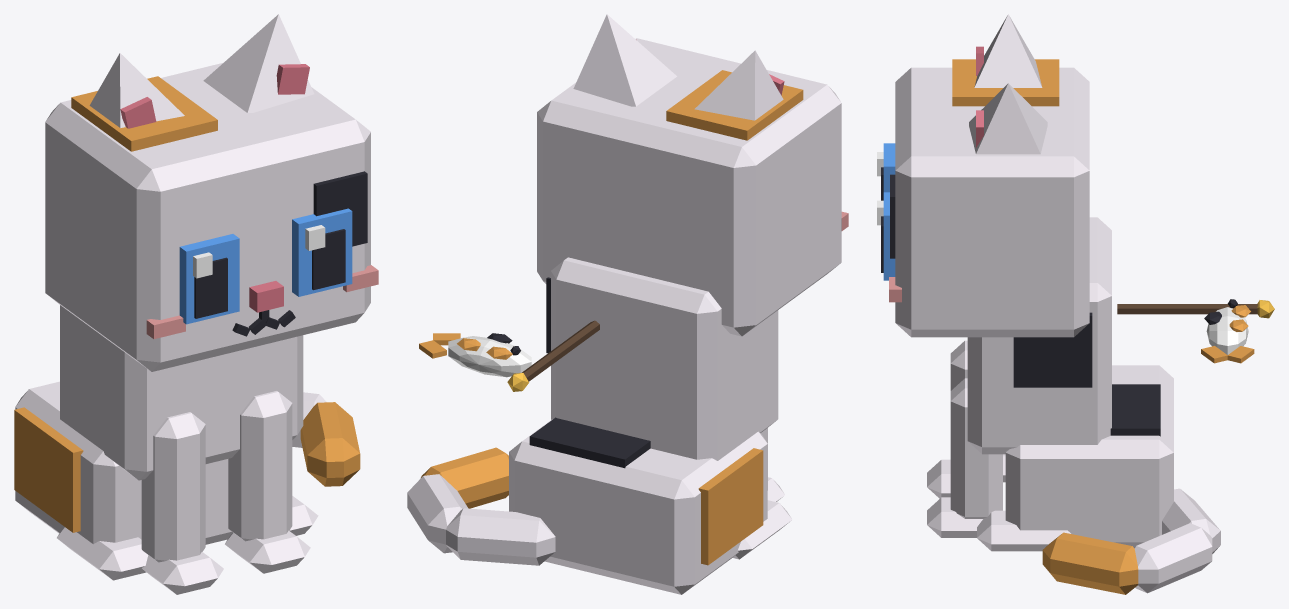
File: CatCafe_Cat_Koi_Sit.glb
3 views of the same model, side by side, from view 1: azimuth 30°, elevation 25°; view 2: azimuth 150°, elevation 25°; view 3: azimuth 270°, elevation 25° (orthographic). The views are drawn at different scales.
Visible parts, largest first — view 1: CatCafe_Cat_Koi_Sit_Head, CatCafe_Cat_Koi_Sit_Body, CatCafe_Cat_Koi_Sit_LegF1, CatCafe_Cat_Koi_Sit_LegF2, CatCafe_Cat_Koi_Sit_EarL, CatCafe_Cat_Koi_Sit_Eye2, CatCafe_Cat_Koi_Sit_Eye1, CatCafe_Cat_Koi_Sit_Tail, CatCafe_Cat_Koi_Sit_EarR; view 2: CatCafe_Cat_Koi_Sit_Body, CatCafe_Cat_Koi_Sit_Head, CatCafe_Cat_Koi_Sit_Tail, CatCafe_Cat_Koi_Sit_EarL, CatCafe_Cat_Koi_Sit_Prop, CatCafe_Cat_Koi_Sit_EarR; view 3: CatCafe_Cat_Koi_Sit_Head, CatCafe_Cat_Koi_Sit_Body, CatCafe_Cat_Koi_Sit_Tail, CatCafe_Cat_Koi_Sit_LegF1, CatCafe_Cat_Koi_Sit_EarL, CatCafe_Cat_Koi_Sit_Prop, CatCafe_Cat_Koi_Sit_EarR, CatCafe_Cat_Koi_Sit_LegF2, CatCafe_Cat_Koi_Sit_Eye1, CatCafe_Cat_Koi_Sit_Eye2.
Part boxes in pixels (<box>): CatCafe_Cat_Koi_Sit_Head: <box>45,62,378,371</box>; CatCafe_Cat_Koi_Sit_Body: <box>14,305,318,580</box>; CatCafe_Cat_Koi_Sit_LegF1: <box>225,391,310,573</box>; CatCafe_Cat_Koi_Sit_LegF2: <box>141,412,223,594</box>; CatCafe_Cat_Koi_Sit_EarL: <box>203,14,314,112</box>; CatCafe_Cat_Koi_Sit_Eye2: <box>179,234,239,324</box>; CatCafe_Cat_Koi_Sit_Eye1: <box>292,208,352,296</box>; CatCafe_Cat_Koi_Sit_Tail: <box>292,392,360,486</box>; CatCafe_Cat_Koi_Sit_EarR: <box>89,53,184,128</box>; CatCafe_Cat_Koi_Sit_Body: <box>509,257,792,594</box>; CatCafe_Cat_Koi_Sit_Head: <box>537,38,848,336</box>; CatCafe_Cat_Koi_Sit_Tail: <box>407,447,555,565</box>; CatCafe_Cat_Koi_Sit_EarL: <box>573,14,676,106</box>; CatCafe_Cat_Koi_Sit_Prop: <box>419,320,599,391</box>; CatCafe_Cat_Koi_Sit_EarR: <box>694,50,784,120</box>; CatCafe_Cat_Koi_Sit_Head: <box>889,59,1089,337</box>; CatCafe_Cat_Koi_Sit_Body: <box>967,217,1173,551</box>; CatCafe_Cat_Koi_Sit_Tail: <box>1042,488,1220,594</box>; CatCafe_Cat_Koi_Sit_LegF1: <box>927,378,1002,537</box>; CatCafe_Cat_Koi_Sit_EarL: <box>969,83,1047,154</box>; CatCafe_Cat_Koi_Sit_Prop: <box>1117,299,1274,363</box>; CatCafe_Cat_Koi_Sit_EarR: <box>974,14,1042,87</box>; CatCafe_Cat_Koi_Sit_LegF2: <box>927,340,967,498</box>; CatCafe_Cat_Koi_Sit_Eye1: <box>877,192,895,280</box>; CatCafe_Cat_Koi_Sit_Eye2: <box>877,143,895,200</box>.
Size of the model in its own units: 1.24 by 1.85 by 1.44.
1 material, 1 textured.
